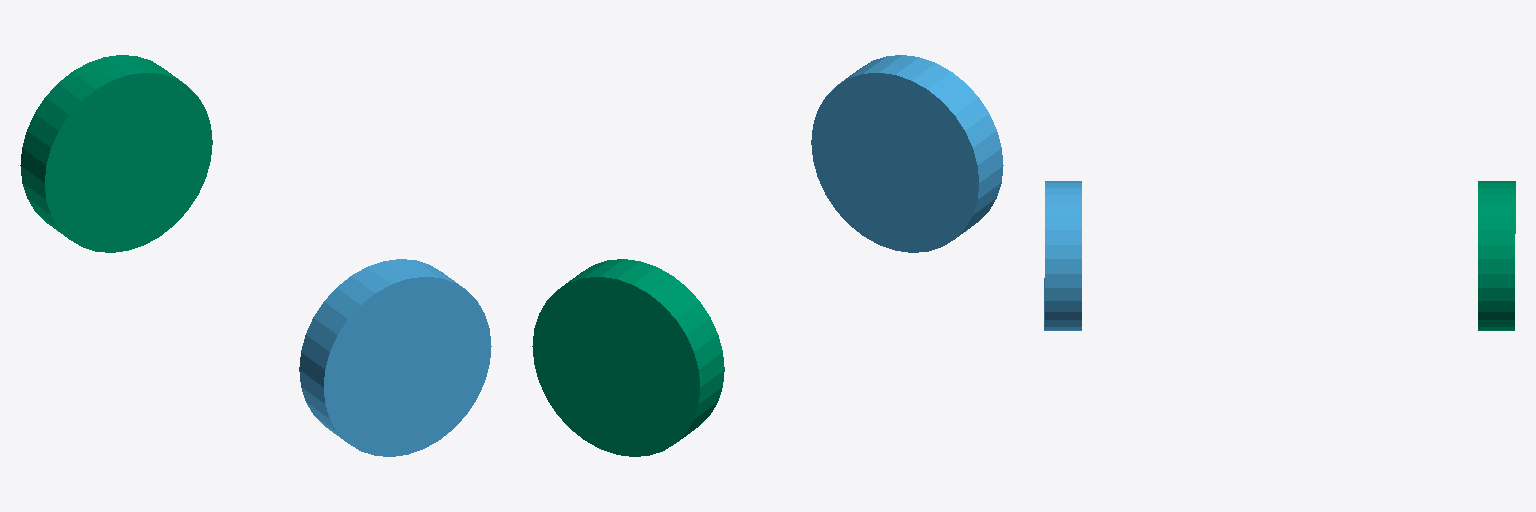
robot.urdf — differential_wheeled_robot:
<?xml version="1.0" ?>
<robot name="differential_wheeled_robot"
    xmlns:xacro="http://www.ros.org/wiki/xacro">
    <material name="Black">
        <color rgba="0.0 0.0 0.0 1.0"/>
    </material>
    <material name="Red">
        <color rgba="0.8 0.0 0.0 1.0"/>
    </material>
    <material name="White">
        <color rgba="1.0 1.0 1.0 1.0"/>
    </material>
    <material name="Blue">
        <color rgba="0.0 0.0 0.8 1.0"/>
    </material>

    <link name="base_footprint">
        <inertial>
            <mass value="0.0001"/>
            <origin xyz="0 0 0"/>
            <inertia ixx="0.0001" ixy="0.0" ixz="0.0" iyy="0.0001" iyz="0.0" izz="0.0001"/>
        </inertial>
        <visual>
            <origin rpy="0 0 0" xyz="0 0 0.2"/>
            <geometry>
                <mesh filename="[local-path]/Desktop/base_link.stl" scale="0.01 0.01 0.01"/>
            </geometry>
        </visual>
        <collision>
            <origin rpy="0 0 0" xyz="0 0 0.2"/>
            <geometry>
                <mesh filename="[local-path]/Desktop/base_link.stl" scale="0.01 0.01 0.01"/>
            </geometry>
        </collision>
    </link>

    <joint name="left_Wheel_joint" type="revolute">
        <origin rpy="1.57 0 0" xyz="-0.575 -0.575 0.2"/>
        <axis xyz="0 0 1"/>
        <parent link="base_footprint"/>
        <child link="left_wheel"/>
    </joint>

    <link name="left_wheel">
        <inertial>
            <mass value="0.0001"/>
            <origin xyz="0 0 0"/>
            <inertia ixx="0.0001" ixy="0.0" ixz="0.0" iyy="0.0001" iyz="0.0" izz="0.0001"/>
        </inertial>
        <visual>
            <origin rpy="0 0 0" xyz="0 0 0"/>
            <geometry>
                <cylinder radius="0.2" length="0.1"/>
            </geometry>
        </visual>
        <collision>
            <origin rpy="0 0 0" xyz="0 0 0"/>
            <geometry>
                <cylinder radius="0.2" length="0.1"/>
            </geometry>
        </collision>
    </link>

    <joint name="right_Wheel_joint" type="revolute">
        <origin rpy="1.57 0 0" xyz="-0.575 0.575 0.2"/>
        <axis xyz="0 0 1"/>
        <parent link="base_footprint"/>
        <child link="right_wheel"/>
    </joint>

    <link name="right_wheel">
        <inertial>
            <mass value="0.0001"/>
            <origin xyz="0 0 0"/>
            <inertia ixx="0.0001" ixy="0.0" ixz="0.0" iyy="0.0001" iyz="0.0" izz="0.0001"/>
        </inertial>
        <visual>
            <origin rpy="0 0 0" xyz="0 0 0"/>
            <geometry>
                <cylinder radius="0.2" length="0.1"/>
            </geometry>
        </visual>
        <collision>
            <origin rpy="0 0 0" xyz="0 0 0"/>
            <geometry>
                <cylinder radius="0.2" length="0.1"/>
            </geometry>
        </collision>
    </link>


    <!--  -->

    <joint name="cart_joint" type="revolute">
        <origin rpy="0 0 0" xyz="-1.2 0.0 0.8"/>
        <axis xyz="0 0 1"/>
        <parent link="base_footprint"/>
        <child link="cart_body"/>
    </joint>

    <link name="cart_body">
        <inertial>
            <mass value="0.0001"/>
            <origin xyz="0 0 0"/>
            <inertia ixx="0.0001" ixy="0.0" ixz="0.0" iyy="0.0001" iyz="0.0" izz="0.0001"/>
        </inertial>
        <visual>
            <origin rpy="0 0 -1.57" xyz="-1.1 -0.0 -0.6"/>
            <geometry>
                <mesh filename="[local-path]/Desktop/cart.stl" scale="0.01 0.01 0.01"/>
            </geometry>
        </visual>
        <collision>
            <origin rpy="0 0 -1.57" xyz="-1.2 -0.0 -0.6"/>
            <geometry>
                <mesh filename="[local-path]/Desktop/cart.stl" scale="0.01 0.01 0.01"/>
            </geometry>
        </collision>
    </link>

</robot>

--- Render facts (derived) ---
3 views of the same robot in one strip: view 1: azimuth 30°, elevation 25°; view 2: azimuth 150°, elevation 25°; view 3: azimuth 270°, elevation 25° (orthographic).
Model differential_wheeled_robot with 4 links and 3 joints (3 revolute), rooted at base_footprint, posed all joints at 0.
Links seen in each view (by area): view 1: left_wheel, right_wheel; view 2: left_wheel, right_wheel; view 3: left_wheel, right_wheel.
Link boxes in pixels (x1,y1,x2,y2): left_wheel: [299, 259, 491, 456]; right_wheel: [20, 55, 212, 252]; left_wheel: [811, 55, 1003, 252]; right_wheel: [532, 259, 724, 456]; left_wheel: [1044, 181, 1081, 330]; right_wheel: [1478, 181, 1515, 330].
Bounding box of the posed robot: 0.4 × 1.25 × 0.4001 m (x, y, z).
Geometry: only primitive shapes (box / cylinder / sphere) drawn; not drawn: 2 mesh visuals (reference in a form the renderer does not follow).
